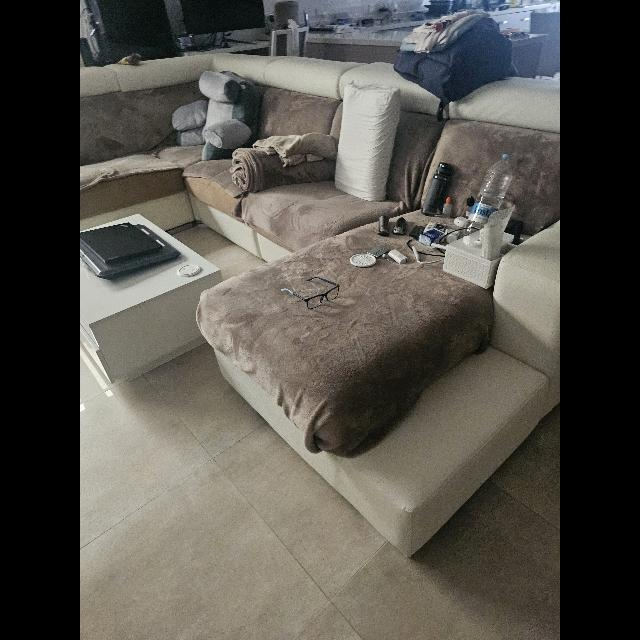glasses: (280, 276, 340, 310)
